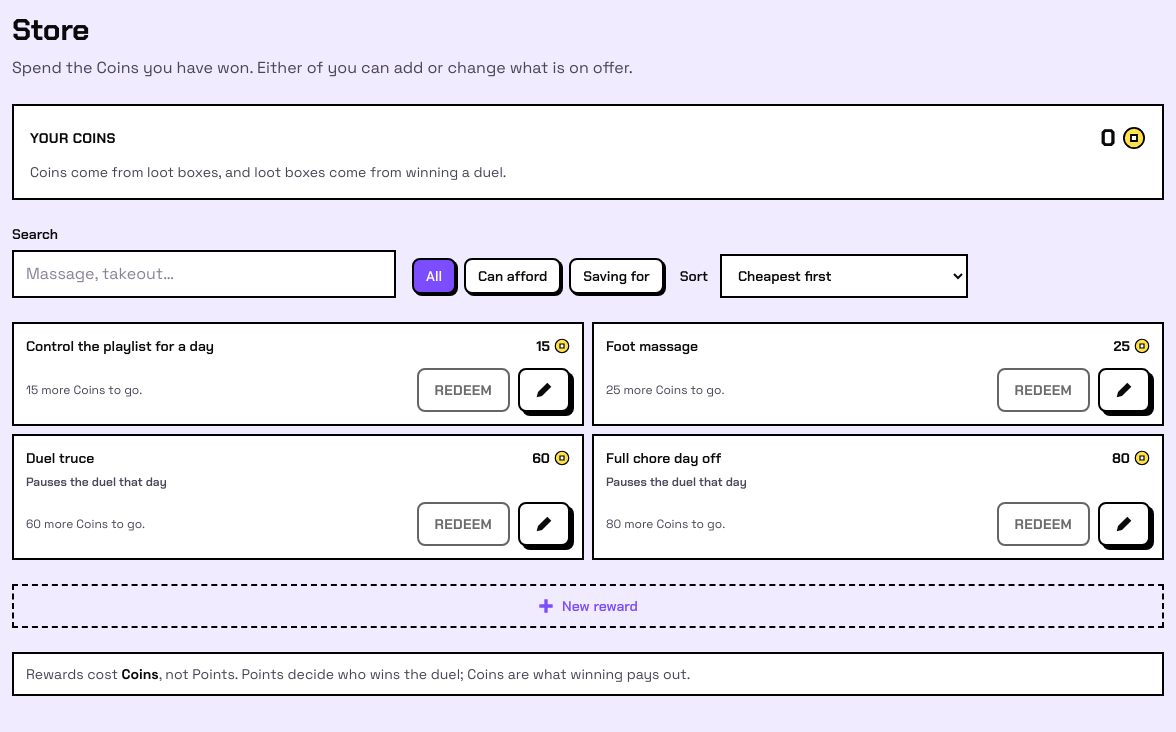
Scenario: search › says so when nothing matches
expect the heading "Foot massage" is shown: met, box [606,336,698,356]
Type "zzz" into the search field labelled "Search" at (204,274), box [12,250,396,298]
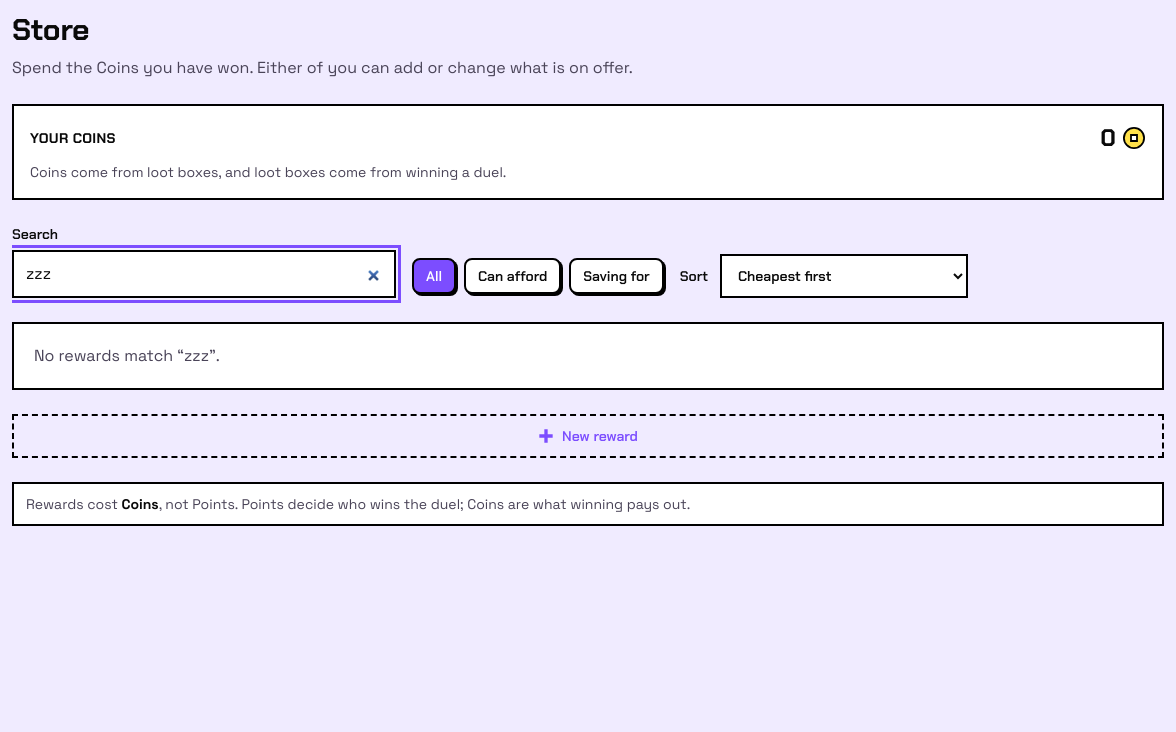
expect the text "No rewards match “zzz”." is shown: met, box [12,322,1164,390]
